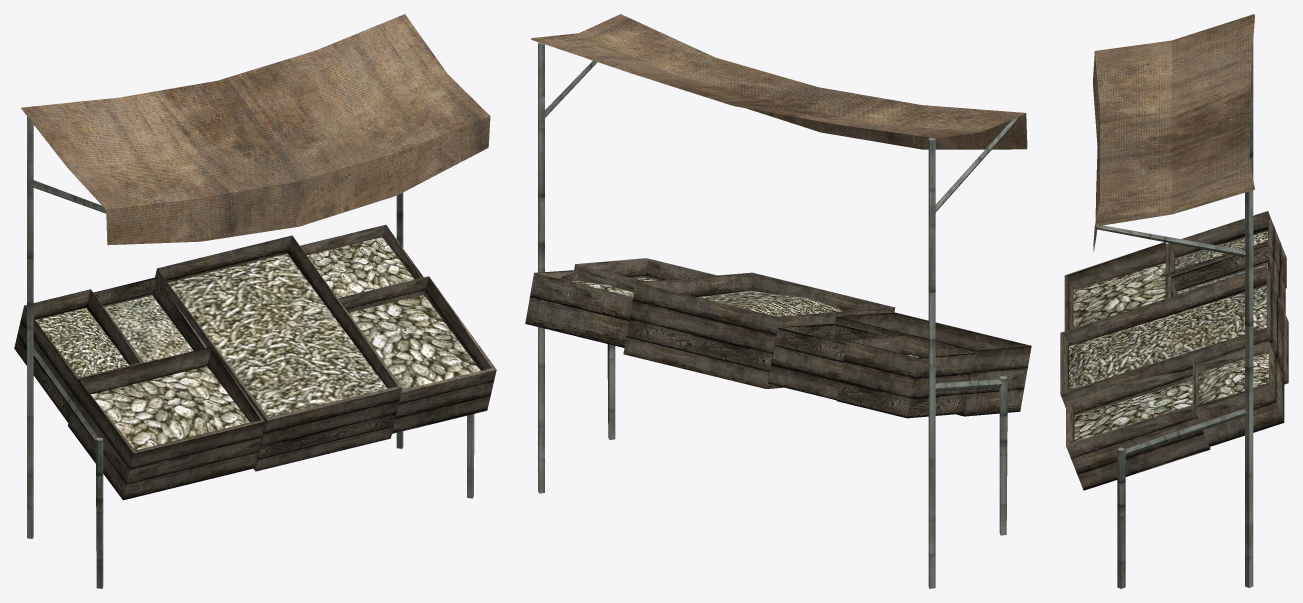
The model's file is frn_tato_fruit_stand_sml_s01_l1.fbx.
The picture shows the model from 3 angles, left to right: view 1: azimuth 30°, elevation 25°; view 2: azimuth 150°, elevation 25°; view 3: azimuth 270°, elevation 25°; orthographic projection. The views are drawn at different scales.
Parts seen in each view (by area): view 1: mesh_node; view 2: mesh_node; view 3: mesh_node.
Boxes of the visible parts, box(x1,y1,x2,y2) form: mesh_node: box(14, 14, 496, 588); mesh_node: box(525, 14, 1031, 588); mesh_node: box(1060, 14, 1288, 588).
Size of the model in its own units: 2.38 by 2.54 by 1.31.
